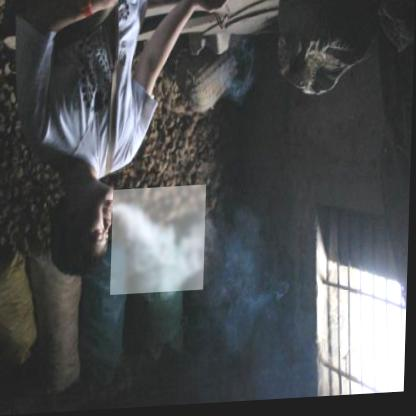smoke: (112, 187, 207, 296)
